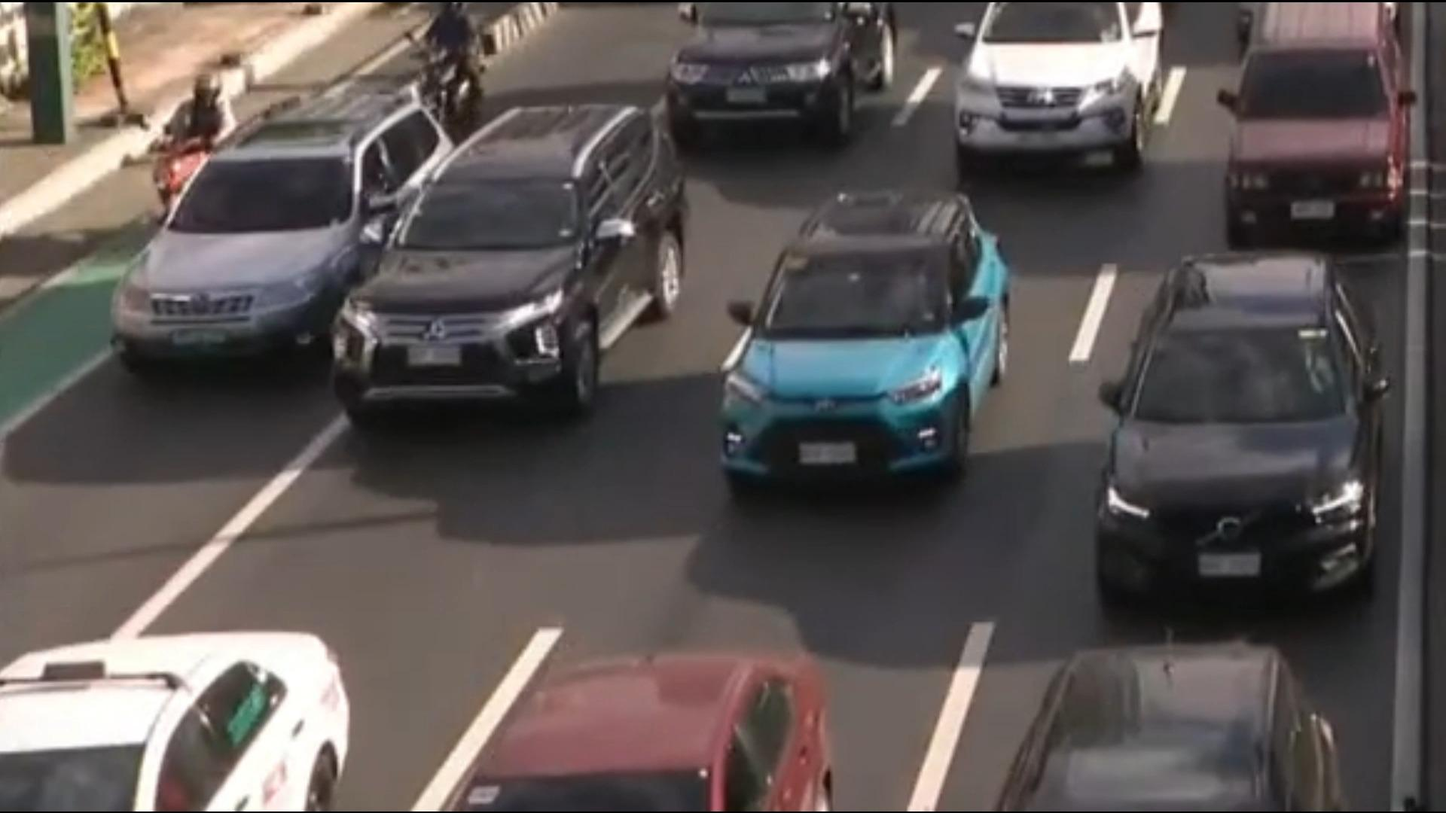Motorcycle: (131, 49, 260, 229), (408, 8, 524, 137)
SUV: (1047, 247, 1427, 668), (340, 91, 705, 444), (671, 187, 1032, 523), (88, 74, 469, 392), (963, 631, 1375, 813), (1198, 0, 1428, 255), (951, 0, 1191, 179), (656, 0, 900, 153)
Sedan: (399, 616, 885, 813), (0, 593, 396, 813)
